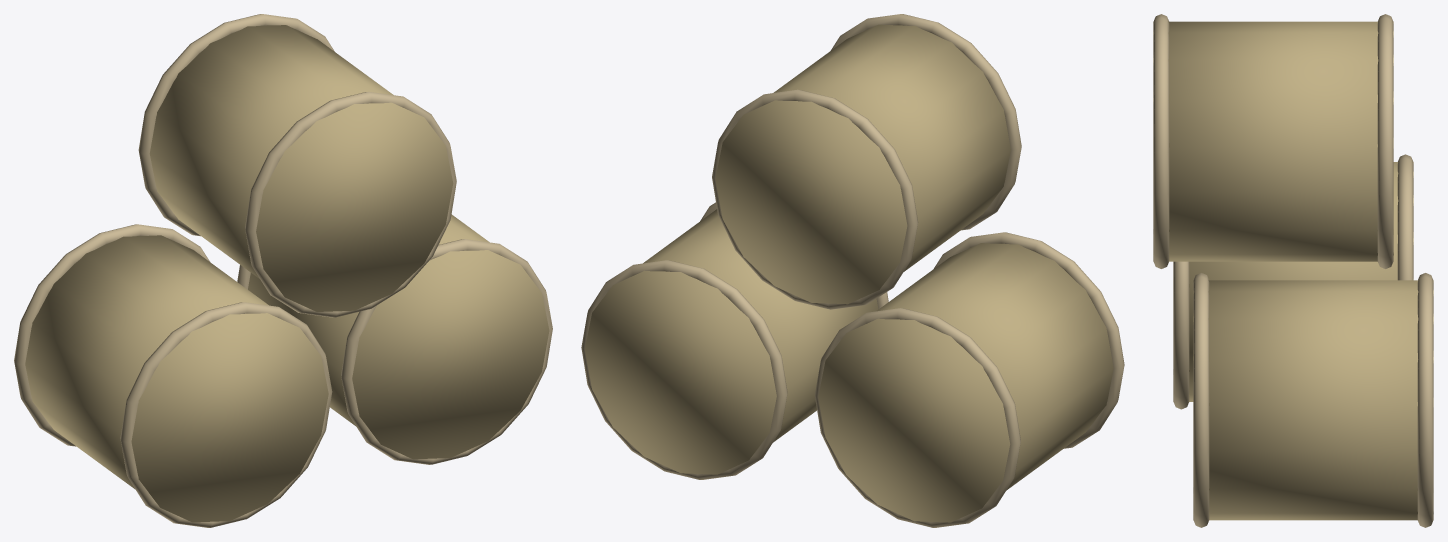
Rendered from prop_kome_dawara.glb.
The picture shows the model from 3 angles, left to right: view 1: azimuth 30°, elevation 25°; view 2: azimuth 150°, elevation 25°; view 3: azimuth 270°, elevation 25°; orthographic projection. The views are drawn at different scales.
Visible parts, largest first — view 1: kome_dawara; view 2: kome_dawara; view 3: kome_dawara.
Boxes of the visible parts, x1=… form: kome_dawara: x1=14, y1=14, x2=552, y2=527; kome_dawara: x1=581, y1=14, x2=1124, y2=527; kome_dawara: x1=1153, y1=14, x2=1433, y2=527.
Size of the model in its own units: 1.34 by 1.18 by 0.7.
